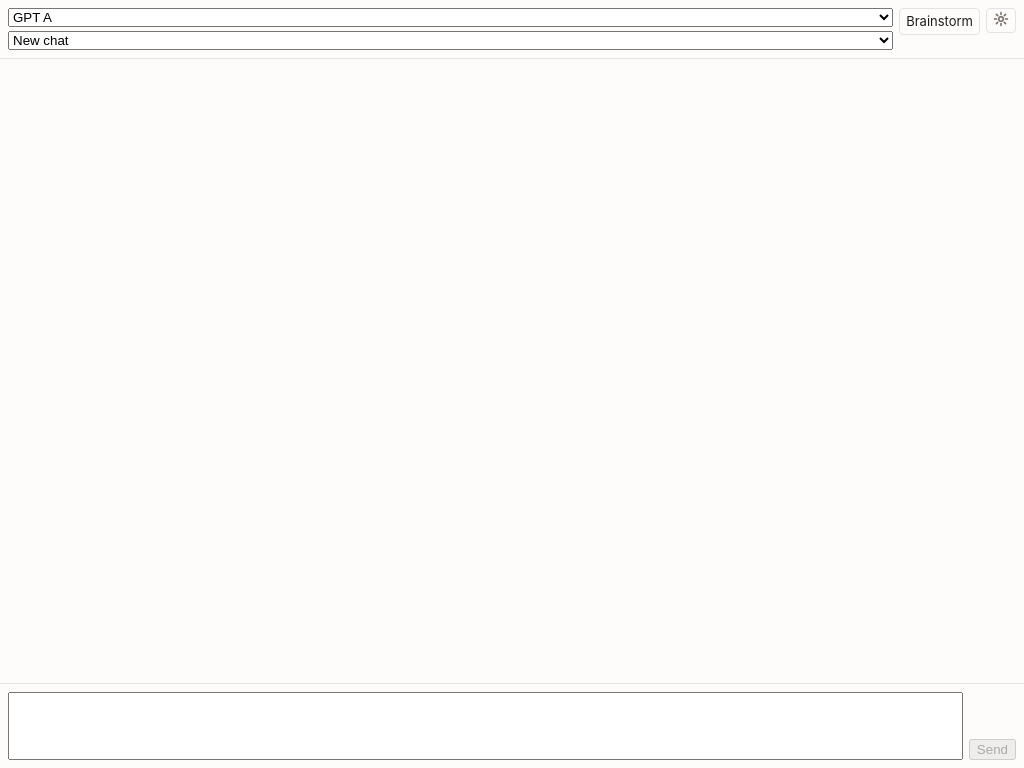
Scenario: stop keeps the partial reply and saves it
This screenshot has width=1024, height=768.
Expected: the dropdown named "Model" shows "GPT A", [8, 8, 893, 27]
In the text box named "Message": (485, 726) [8, 692, 963, 760], type "hi"
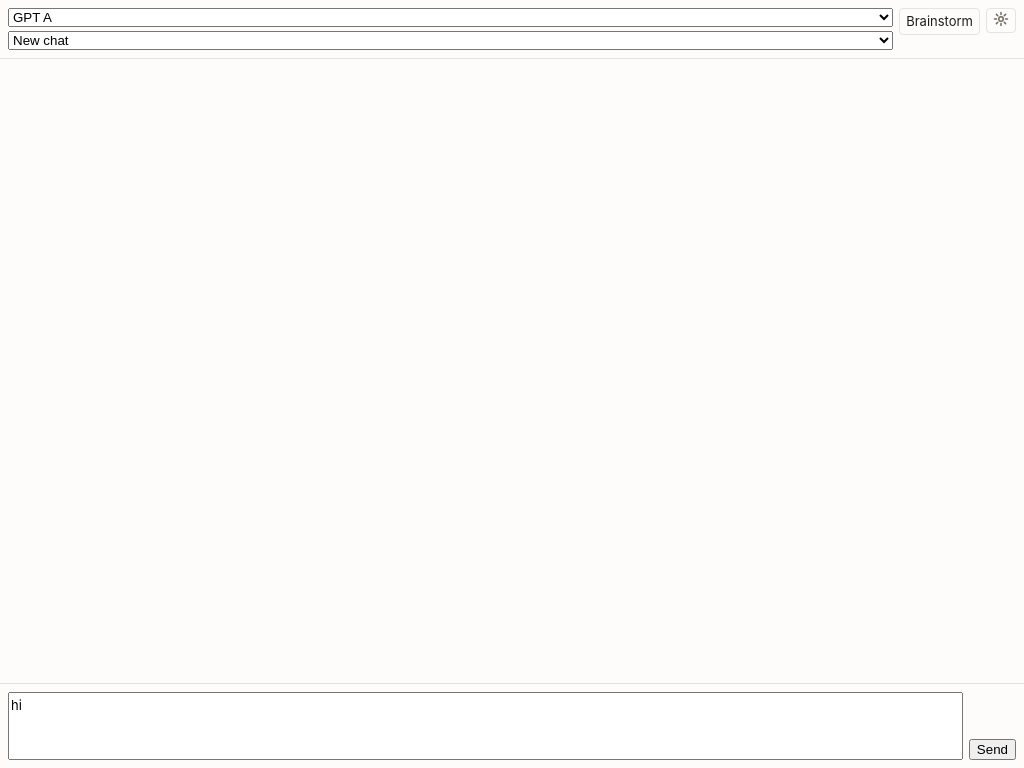
Press Enter in the text box named "Message", box [8, 692, 963, 760]
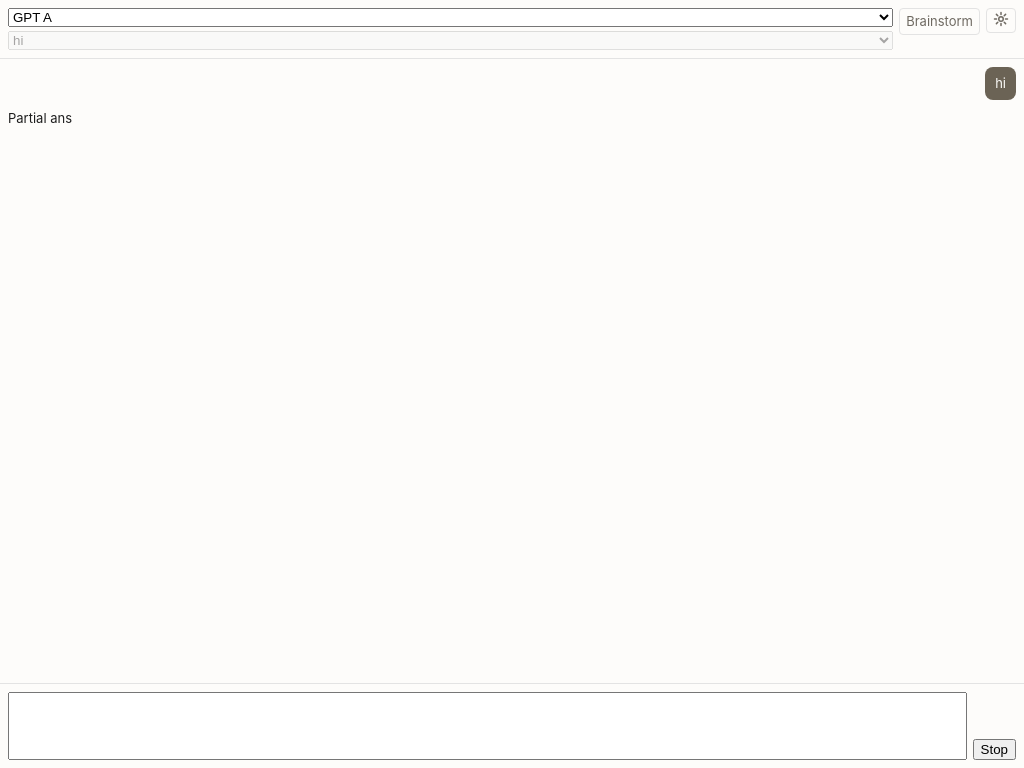
Expected: the text box named "Message" has attribute readonly, [8, 692, 967, 760]
Click the button "Stop": (994, 750) [973, 739, 1016, 760]
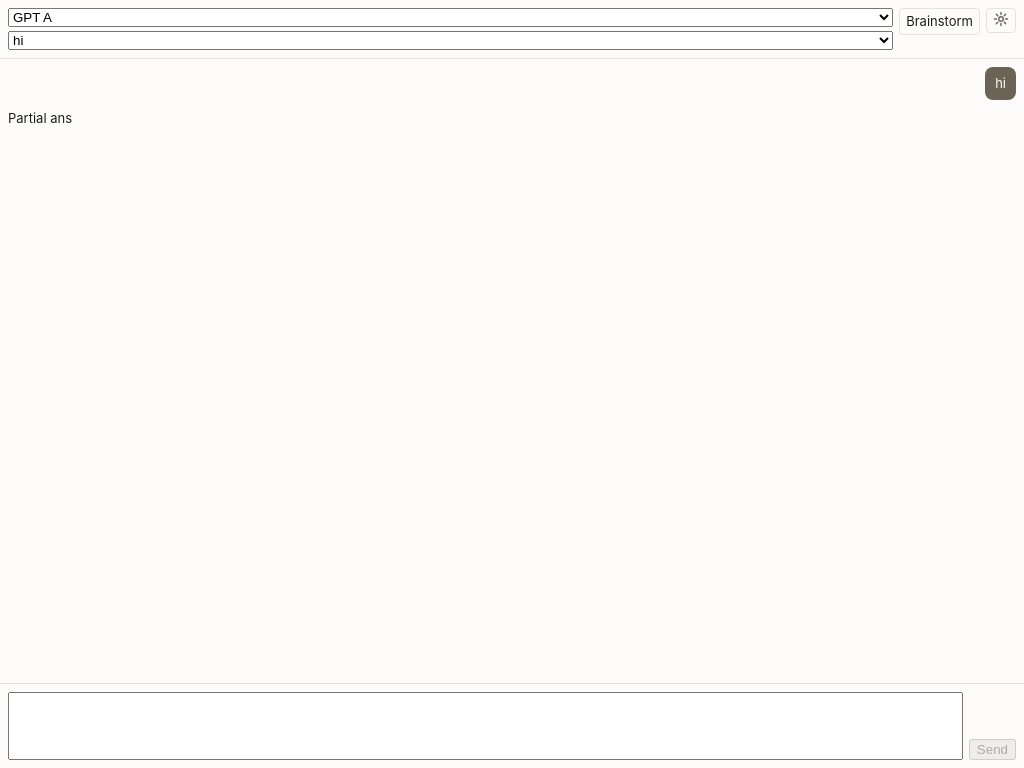
Expected: the text box named "Message" is enabled, [8, 692, 963, 760]
Expected: the text "Partial ans" is shown, [8, 108, 72, 129]
Expected: the button "Send" is shown, [969, 739, 1016, 760]
